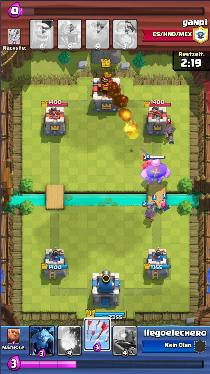ally_archer: (149, 201, 159, 212), (161, 201, 171, 211)
ally_giant: (141, 159, 170, 184)
ally_musketeer: (145, 205, 155, 220)
enemy_fireball: (122, 117, 141, 141)
enemy_musketeer: (165, 125, 175, 144)
